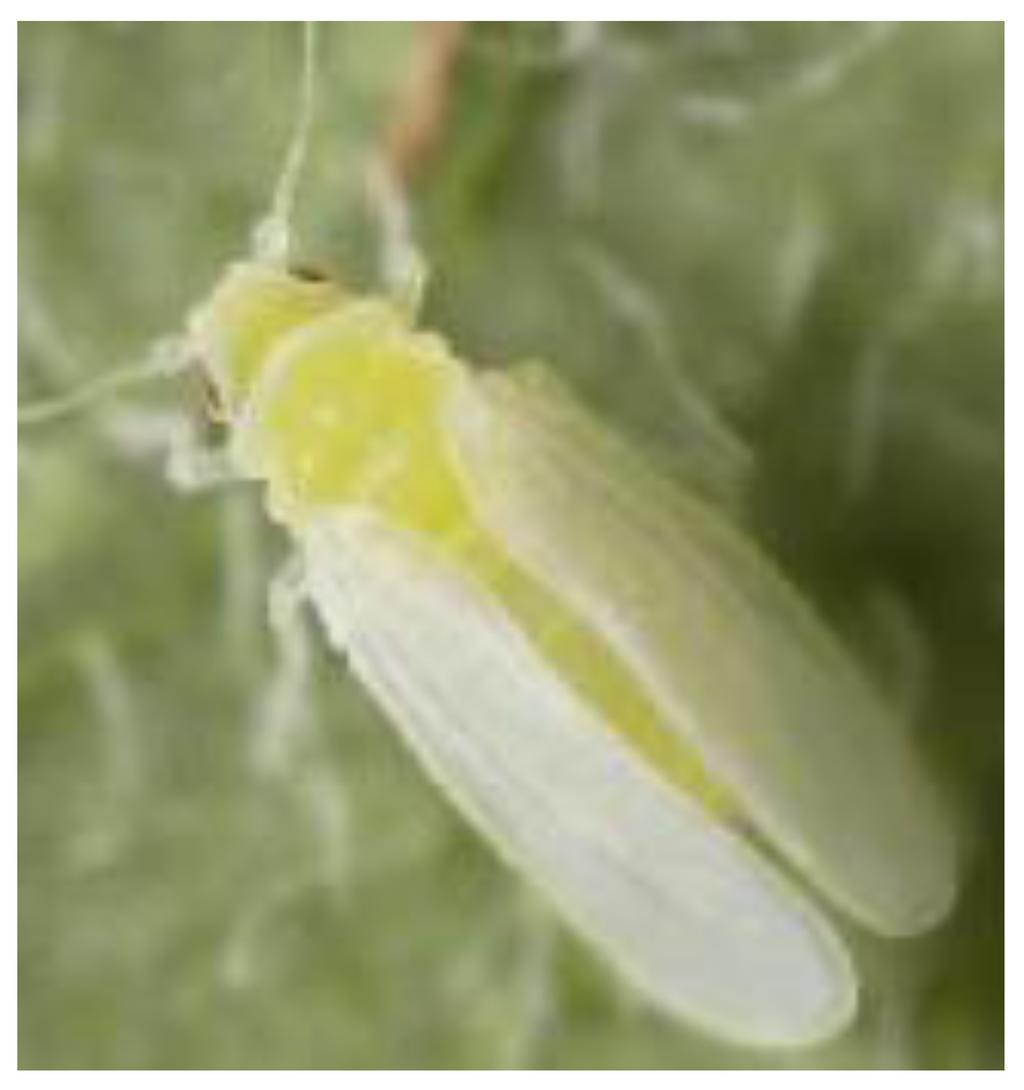Tobacco Whitefly: (104, 215, 960, 1041)
